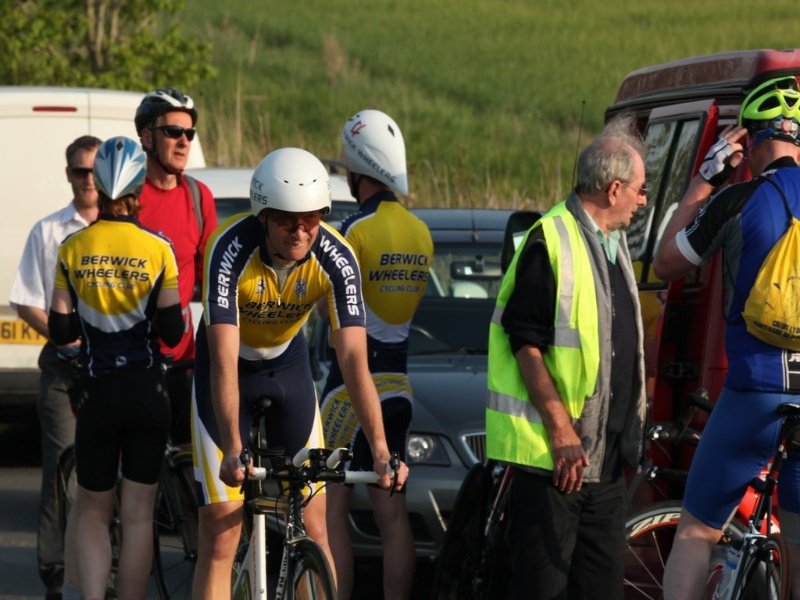helmet: (248, 147, 344, 213), (347, 110, 411, 185), (94, 137, 144, 203), (137, 88, 199, 125)
jacket: (487, 210, 609, 466)
